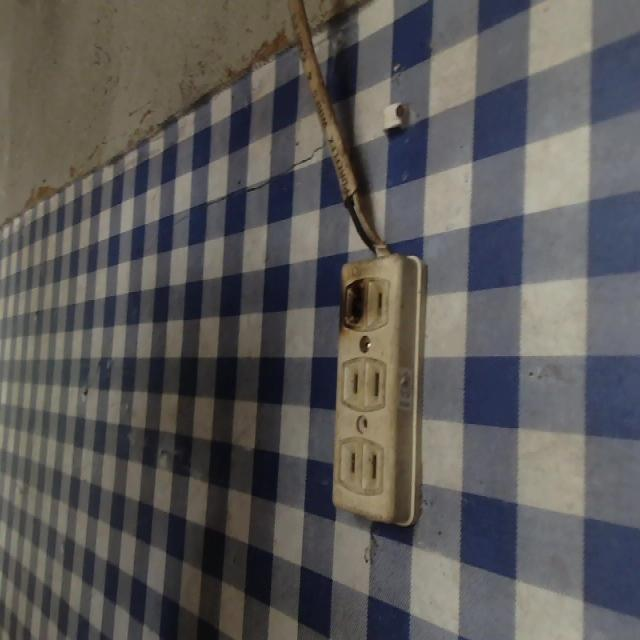-: (338, 273, 369, 332)
